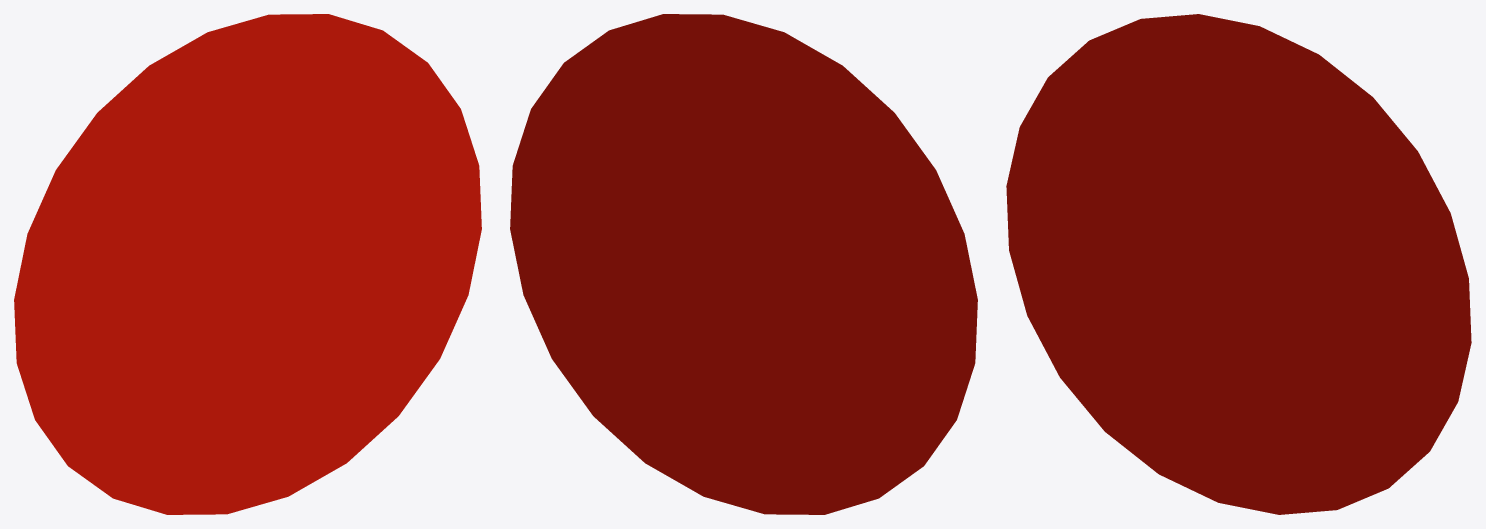
Rendered from improCircle.dae.
3 renders of one model, left to right at view 1: azimuth 30°, elevation 25°; view 2: azimuth 150°, elevation 25°; view 3: azimuth 330°, elevation 25°, orthographic.
Visible parts, largest first — view 1: SketchUp; view 2: SketchUp; view 3: SketchUp.
Part boxes in pixels (box(x1,y1,x2,y2)): SketchUp: box(14, 14, 481, 514); SketchUp: box(510, 14, 977, 514); SketchUp: box(1006, 14, 1471, 514).
Bounding box in the file's own units: 312 × 0 × 312.
